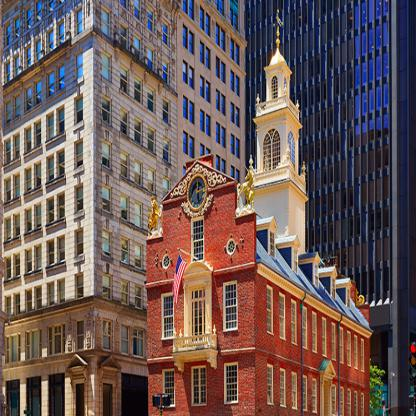State House: (131, 3, 384, 415)
